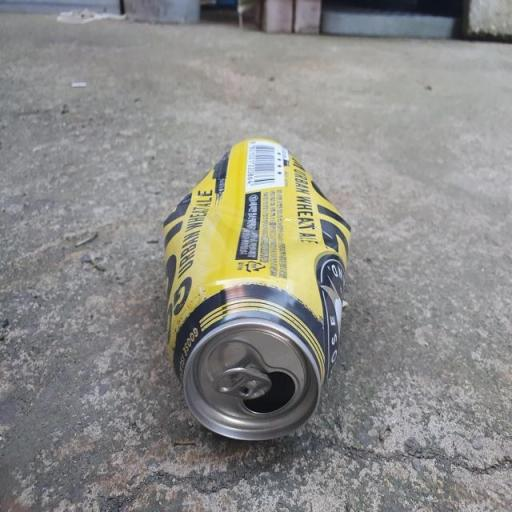metal: (142, 126, 363, 472)
